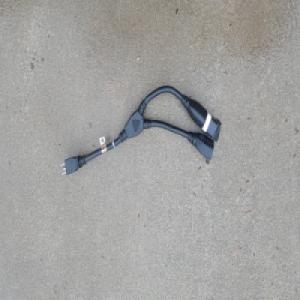Wire: (58, 84, 222, 179)
